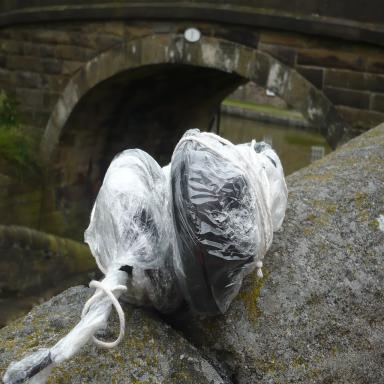plasticbag: (1, 126, 287, 383)
